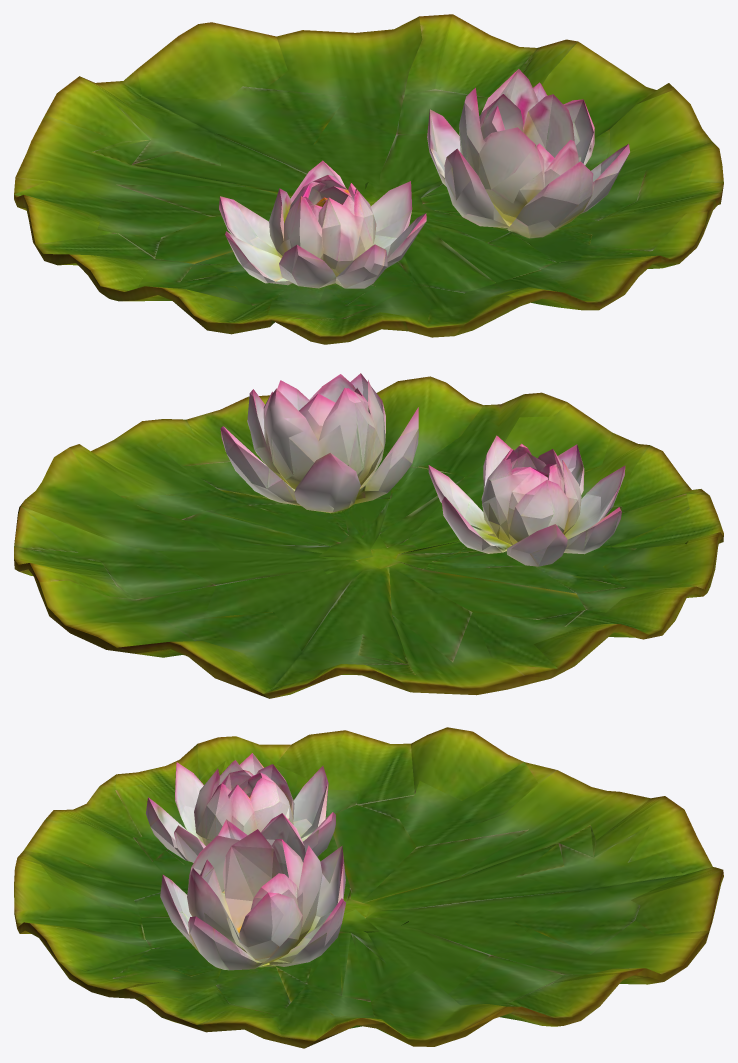
File: giant_lily_pad.glb
3 renders of one model, top to bottom at view 1: azimuth 30°, elevation 25°; view 2: azimuth 150°, elevation 25°; view 3: azimuth 270°, elevation 25°, orthographic.
Size of the model in its own units: 1.9 by 0.4156 by 1.9.
1 material, 1 textured.
